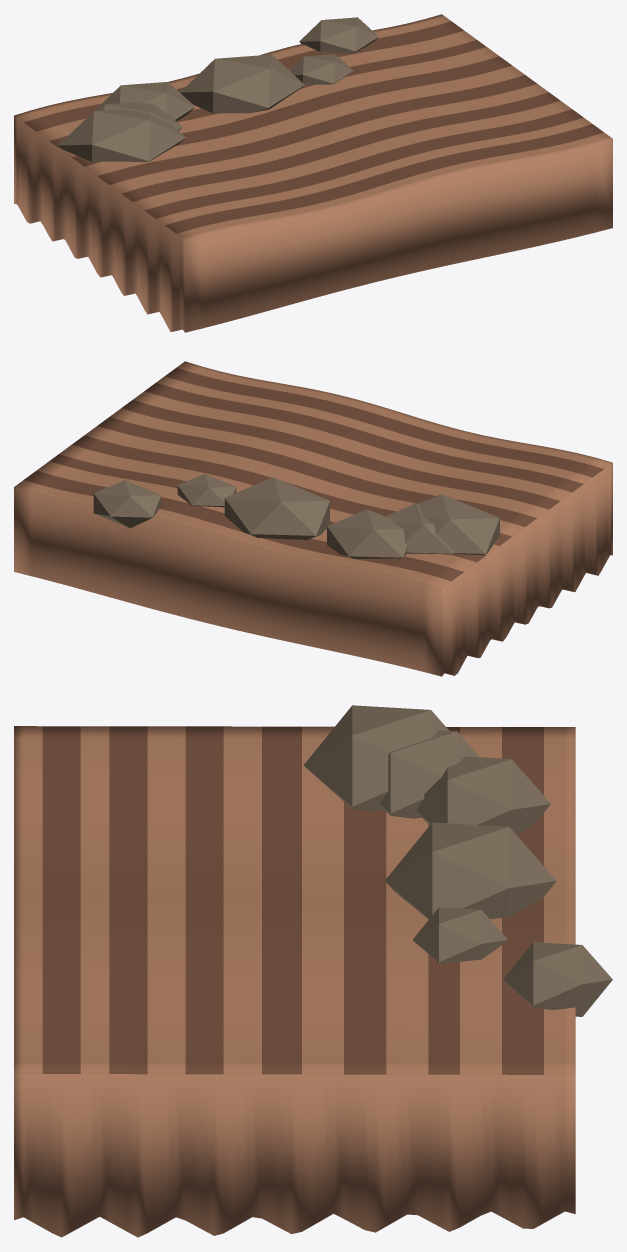
The model's file is POT3.glb.
3 renders of one model, top to bottom at view 1: azimuth 30°, elevation 25°; view 2: azimuth 150°, elevation 25°; view 3: azimuth 270°, elevation 25°, orthographic. The views are drawn at different scales.
Parts seen in each view (by area): view 1: POT3_panel, POT3_crust0, POT3_crust5, POT3_crust3, POT3_crust2, POT3_crust6, POT3_crust4; view 2: POT3_panel, POT3_crust0, POT3_crust5, POT3_crust2, POT3_crust3, POT3_crust4, POT3_crust6; view 3: POT3_panel, POT3_crust0, POT3_crust5, POT3_crust2, POT3_crust3, POT3_crust4, POT3_crust6.
Part boxes in pixels (<box>): POT3_panel: <box>14,14,612,332</box>; POT3_crust0: <box>180,54,304,113</box>; POT3_crust5: <box>58,109,185,162</box>; POT3_crust3: <box>299,17,378,53</box>; POT3_crust2: <box>94,82,194,121</box>; POT3_crust6: <box>289,54,353,84</box>; POT3_crust4: <box>98,102,182,130</box>; POT3_panel: <box>14,361,612,676</box>; POT3_crust0: <box>224,477,329,539</box>; POT3_crust5: <box>418,494,499,555</box>; POT3_crust2: <box>327,509,407,558</box>; POT3_crust3: <box>93,480,161,528</box>; POT3_crust4: <box>385,503,454,554</box>; POT3_crust6: <box>177,473,236,507</box>; POT3_panel: <box>14,726,575,1237</box>; POT3_crust0: <box>385,822,556,919</box>; POT3_crust5: <box>304,705,449,811</box>; POT3_crust2: <box>416,756,550,835</box>; POT3_crust3: <box>503,942,612,1016</box>; POT3_crust4: <box>380,730,479,818</box>; POT3_crust6: <box>412,907,507,963</box>.
Bounding box in the file's own units: 0.13 × 0.0378 × 0.096.
